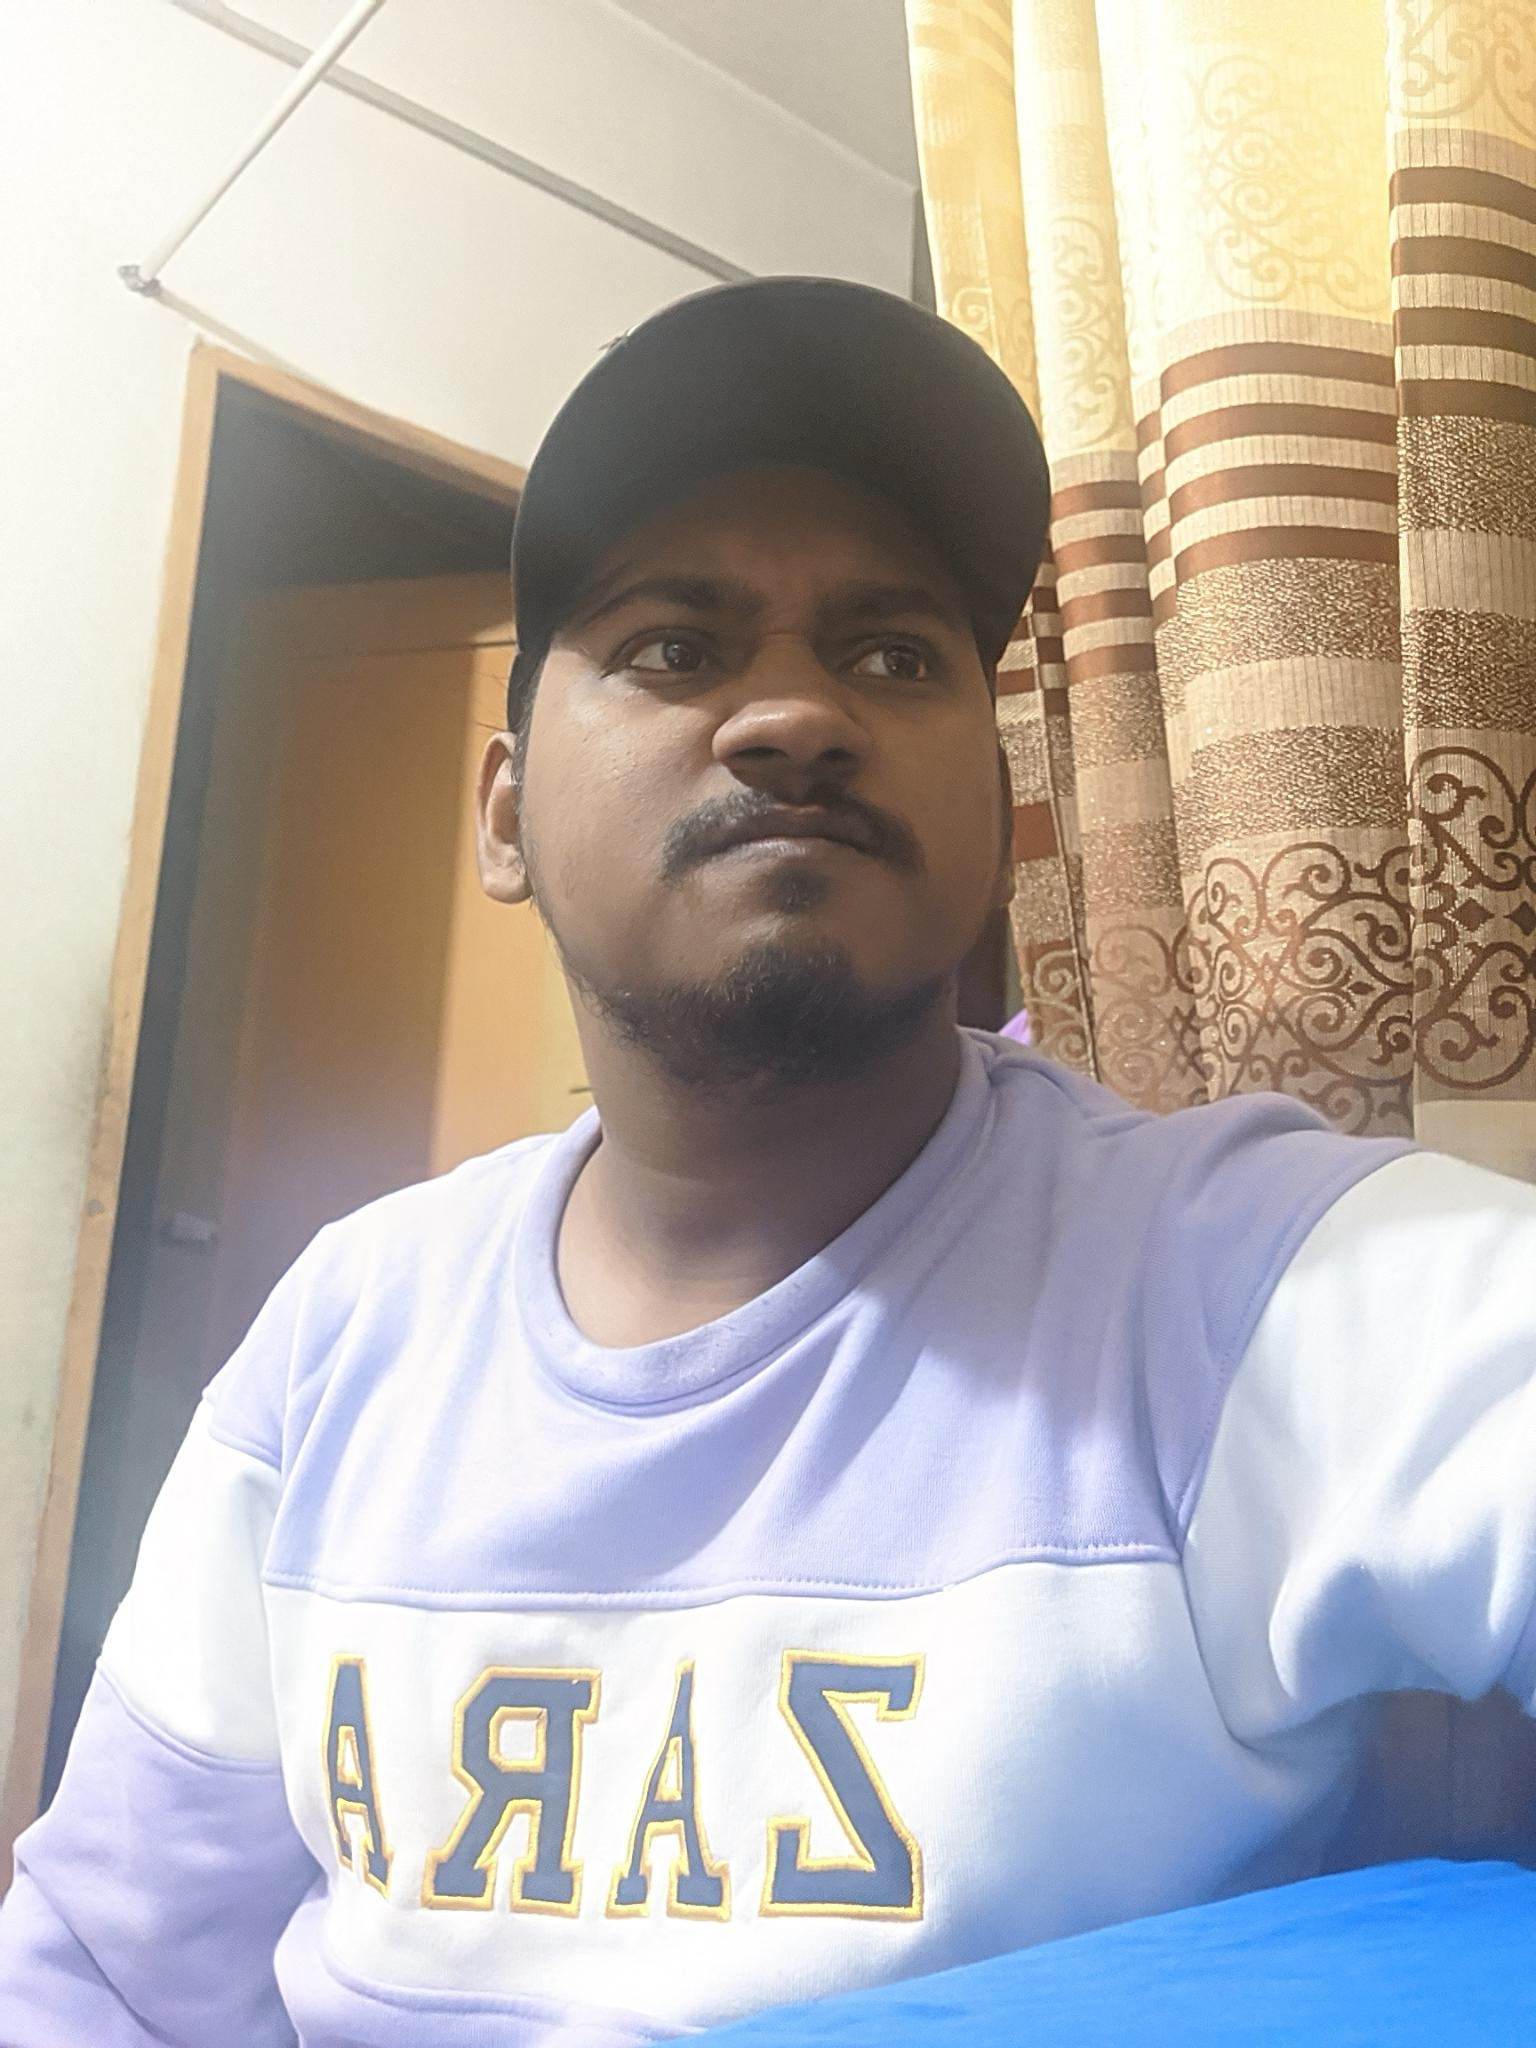Angry: (552, 516, 1025, 984)
